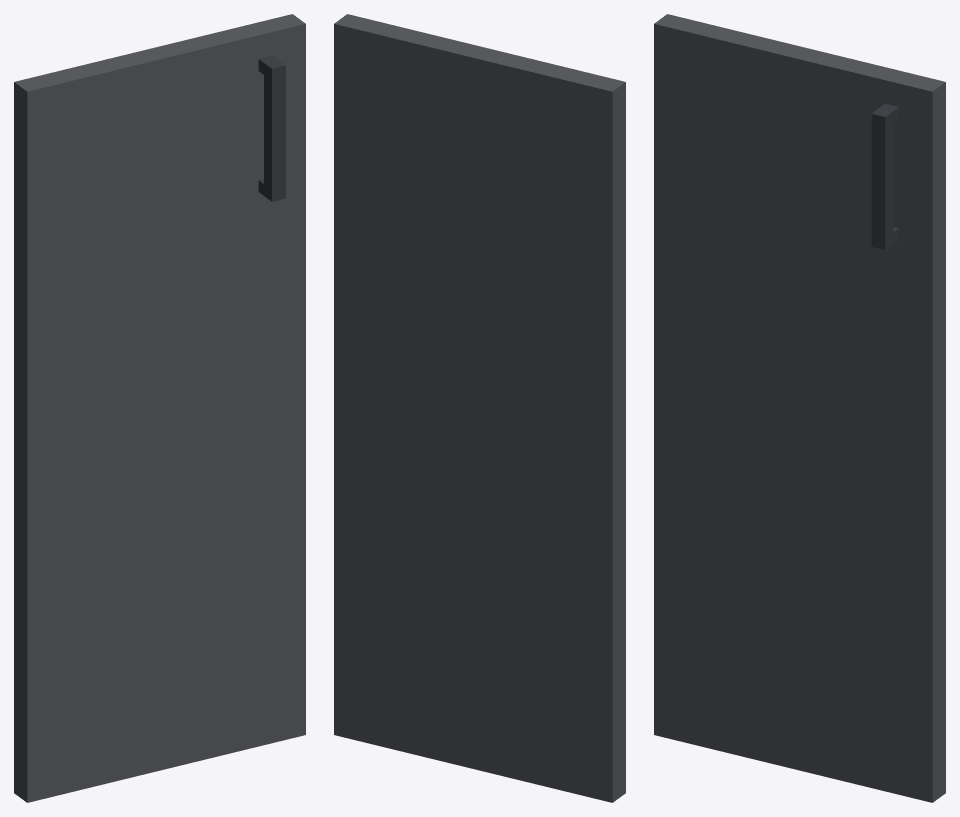
File: BathroomDoor_C3_02.fbx
3 renders of one model, left to right at view 1: azimuth 30°, elevation 25°; view 2: azimuth 150°, elevation 25°; view 3: azimuth 330°, elevation 25°, orthographic.
Parts seen in each view (by area): view 1: BathroomDoor_C3_02; view 2: BathroomDoor_C3_02; view 3: BathroomDoor_C3_02.
Part boxes in pixels (x1,y1,x2,y2): BathroomDoor_C3_02: (14, 14, 305, 802); BathroomDoor_C3_02: (334, 14, 625, 802); BathroomDoor_C3_02: (654, 14, 945, 802).
Bounding box in the file's own units: 30 × 73.19 × 5.03.
